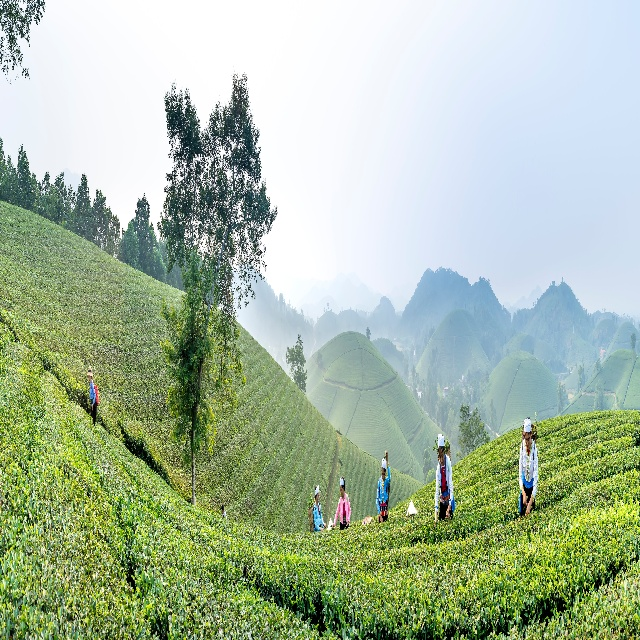Sin_guantes: (525, 503, 531, 516), (522, 493, 527, 506), (433, 518, 437, 528), (446, 508, 450, 518), (380, 515, 383, 522)
